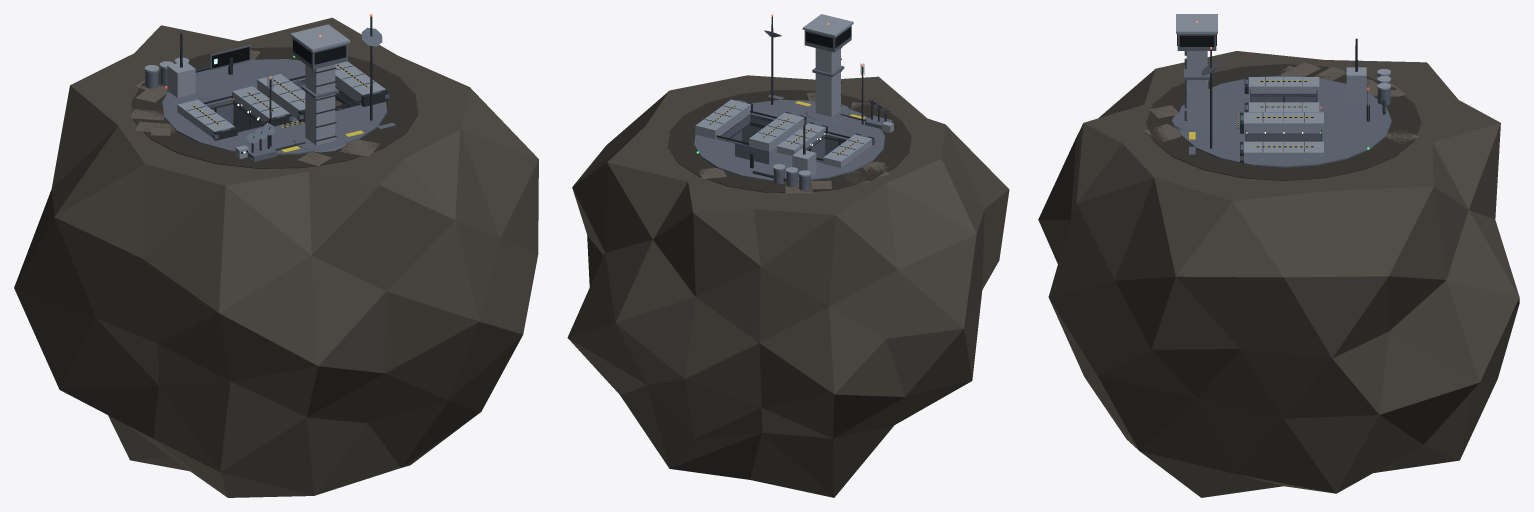
File: comet-l.glb
3 views of the same model, side by side, from view 1: azimuth 30°, elevation 25°; view 2: azimuth 150°, elevation 25°; view 3: azimuth 270°, elevation 25° (orthographic). The views are drawn at different scales.
Parts seen in each view (by area): view 1: cometBody, plateauPad, plateauDeck, cometTowerShaft, berthLDeckDoorHouseL, berthLDeckDoorHouseR, berthSMDeckDoorHouseL, berthSMDeckDoorHouseR, cometTowerRoof, miningRig, cometTowerApron; view 2: cometBody, plateauPad, plateauDeck, cometTowerShaft, berthLDeckDoorHouseR, berthLDeckDoorHouseL, berthSMDeckDoorHouseL, berthSMDeckDoorHouseR, cometTowerRoof, miningRig; view 3: cometBody, plateauPad, plateauDeck, berthLDeckDoorHouseR, berthLDeckDoorHouseL, cometTowerShaft, berthSMDeckDoorHouseL, cometTowerRoof, berthSMDeckDoorHouseR, miningRig, cometTowerApron, hangarLCollar0.
Boxes of the visible parts, box(x1,y1,x2,y2) form: cometBody: box(14, 17, 538, 497); plateauPad: box(131, 47, 418, 168); plateauDeck: box(162, 59, 387, 154); cometTowerShaft: box(305, 64, 335, 145); berthLDeckDoorHouseL: box(257, 74, 305, 120); berthLDeckDoorHouseR: box(335, 61, 385, 104); berthSMDeckDoorHouseL: box(177, 99, 234, 137); berthSMDeckDoorHouseR: box(232, 86, 289, 123); cometTowerRoof: box(290, 24, 350, 51); miningRig: box(167, 61, 195, 97); cometTowerApron: box(293, 130, 346, 152); cometBody: box(567, 75, 1009, 497); plateauPad: box(668, 90, 911, 192); plateauDeck: box(694, 100, 884, 181); cometTowerShaft: box(815, 48, 840, 116); berthLDeckDoorHouseR: box(695, 99, 750, 139); berthLDeckDoorHouseL: box(749, 112, 804, 151); berthSMDeckDoorHouseL: box(823, 134, 872, 167); berthSMDeckDoorHouseR: box(777, 123, 825, 155); cometTowerRoof: box(802, 14, 853, 37); miningRig: box(792, 149, 816, 178); cometBody: box(1038, 51, 1519, 497); plateauPad: box(1146, 64, 1421, 180); plateauDeck: box(1178, 75, 1391, 167); berthLDeckDoorHouseR: box(1243, 141, 1323, 162); berthLDeckDoorHouseL: box(1243, 112, 1323, 133); cometTowerShaft: box(1186, 51, 1207, 124); berthSMDeckDoorHouseL: box(1248, 77, 1319, 93); cometTowerRoof: box(1176, 14, 1217, 33); berthSMDeckDoorHouseR: box(1248, 102, 1319, 112); miningRig: box(1346, 67, 1366, 99); cometTowerApron: box(1171, 111, 1222, 131); hangarLCollar0: box(1246, 135, 1320, 141).
Size of the model in its own units: 89.68 by 90.01 by 87.24.
